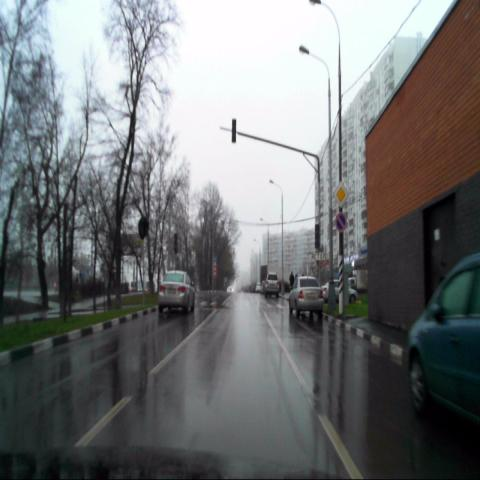3_28: (335, 212, 347, 233)
